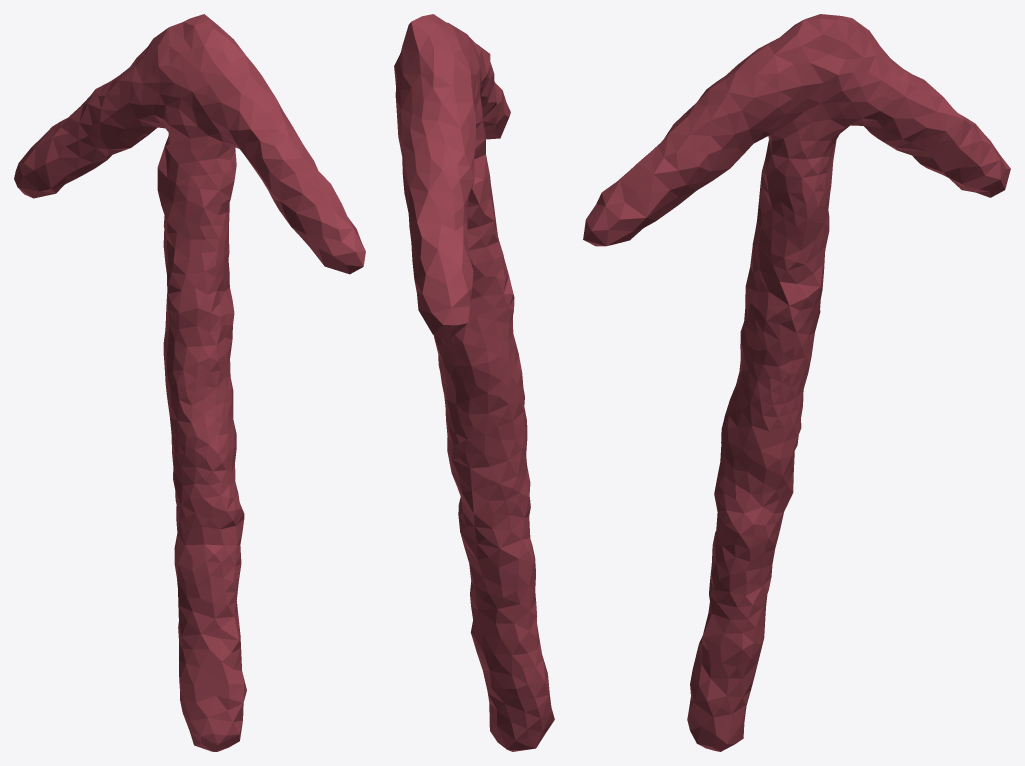
The picture shows the model from 3 angles, left to right: view 1: azimuth 30°, elevation 25°; view 2: azimuth 150°, elevation 25°; view 3: azimuth 270°, elevation 25°; orthographic projection. The views are drawn at different scales.
Parts seen in each view (by area): view 1: Sphere; view 2: Sphere; view 3: Sphere.
Part boxes in pixels (x1,y1,x2,y2): Sphere: (14,14,365,751); Sphere: (394,14,554,751); Sphere: (583,14,1010,751).
Size of the model in its own units: 153 by 582 by 300.
